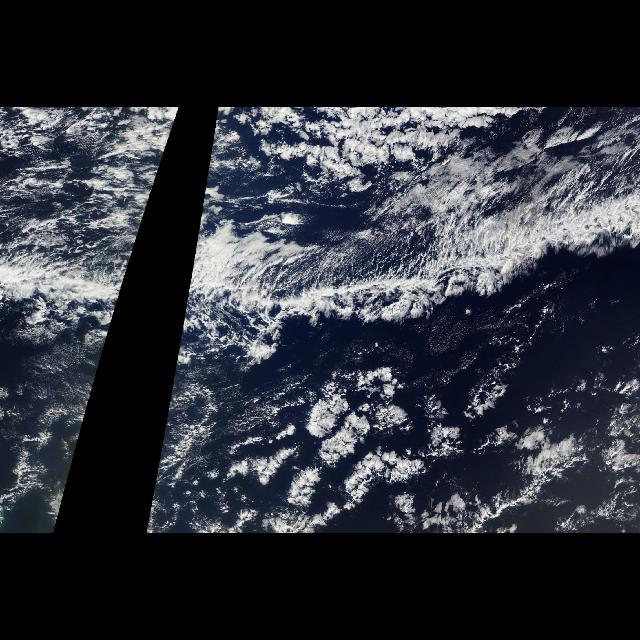Fish: (173, 178, 639, 372), (3, 178, 157, 372), (468, 438, 634, 530)
Flower: (199, 369, 625, 533)
Sugar: (215, 387, 632, 529)
